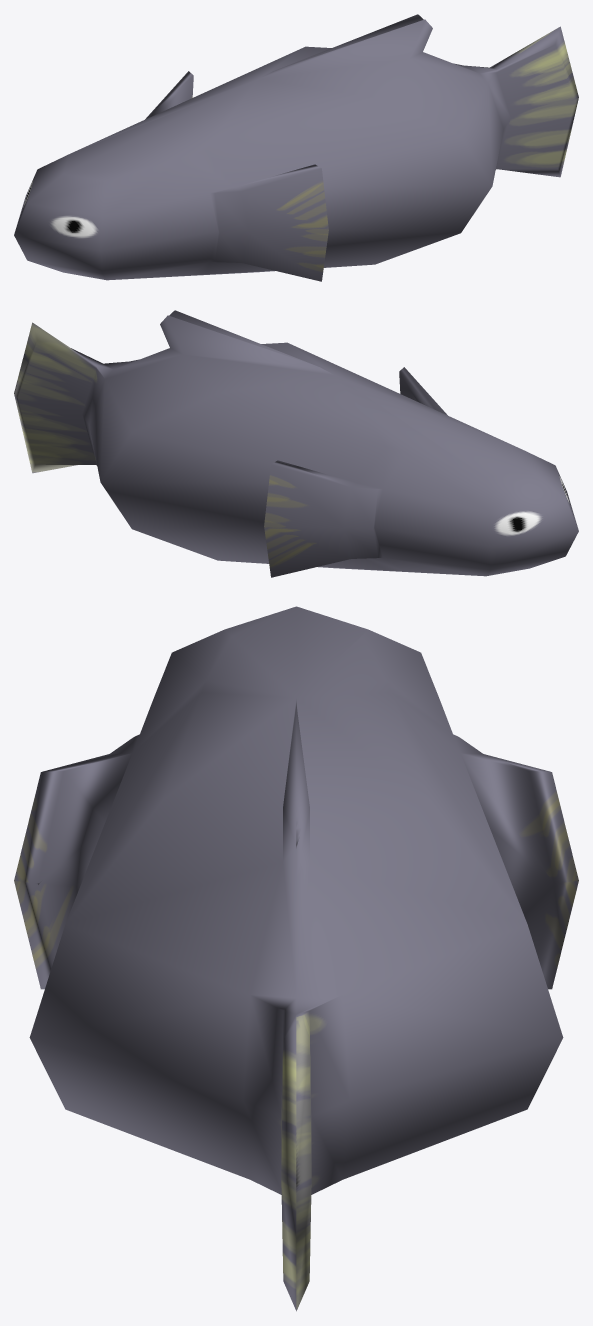
Rendered from Fish03.fbx.
The picture shows the model from 3 angles, top to bottom: view 1: azimuth 30°, elevation 25°; view 2: azimuth 150°, elevation 25°; view 3: azimuth 270°, elevation 25°; orthographic projection. The views are drawn at different scales.
Parts seen in each view (by area): view 1: Fish03; view 2: Fish03; view 3: Fish03.
Boxes of the visible parts, <box> form: Fish03: <box>14,14,578,281</box>; Fish03: <box>14,310,578,577</box>; Fish03: <box>14,606,578,1311</box>.
Size of the model in its own units: 2.17 by 0.79 by 0.9784.
